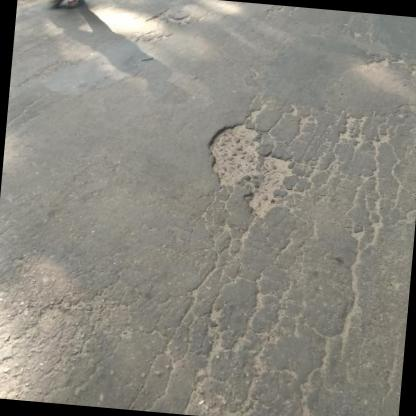pothole: (202, 116, 302, 222)
